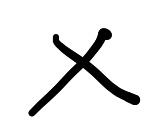mult: (27, 27, 140, 116)
